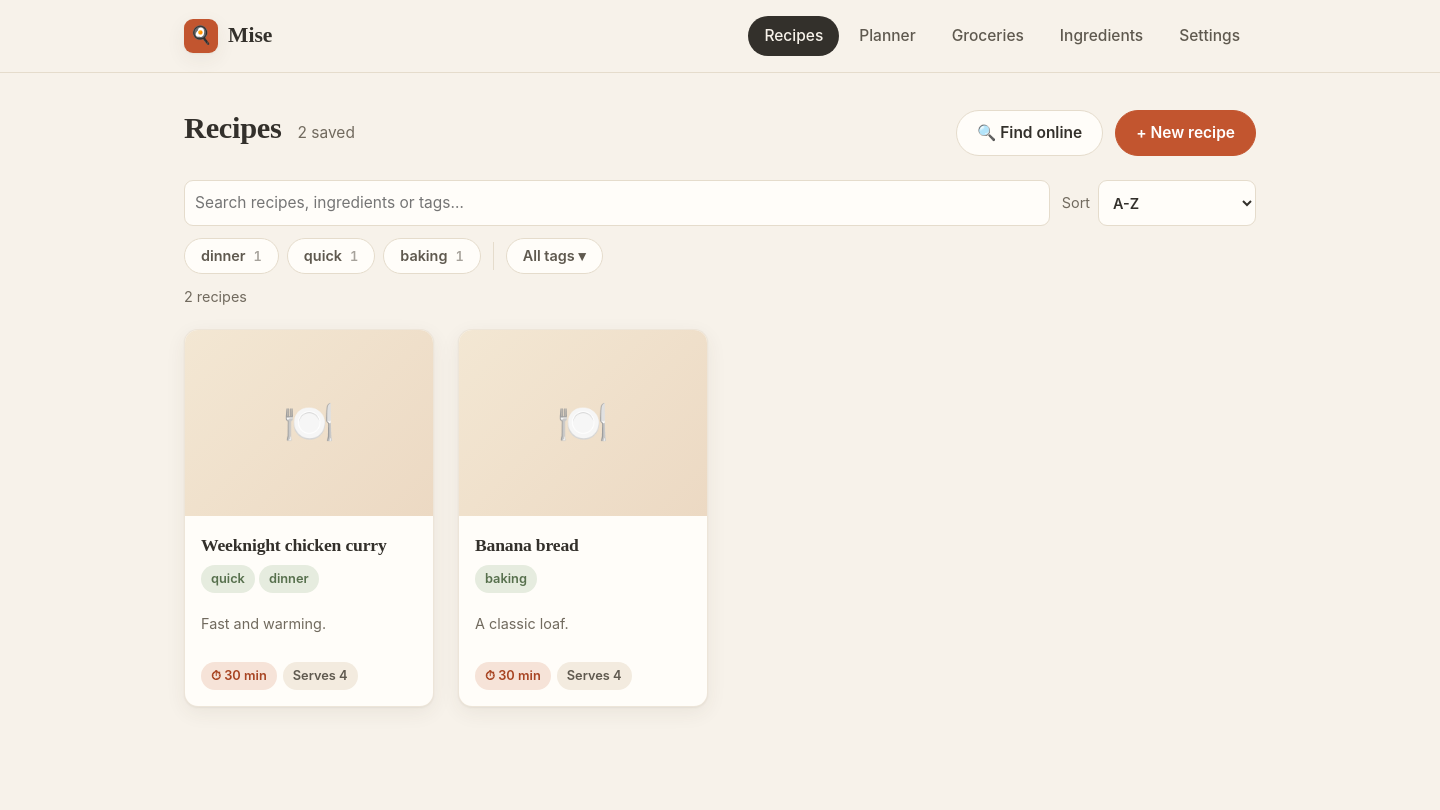
RecipesPage › filters by a tag picked from the quick row
Expected: the heading "Banana bread" is shown, [475,535,579,555]
Click the button "dinner 1" at [231, 256], box [184,238,279,274]
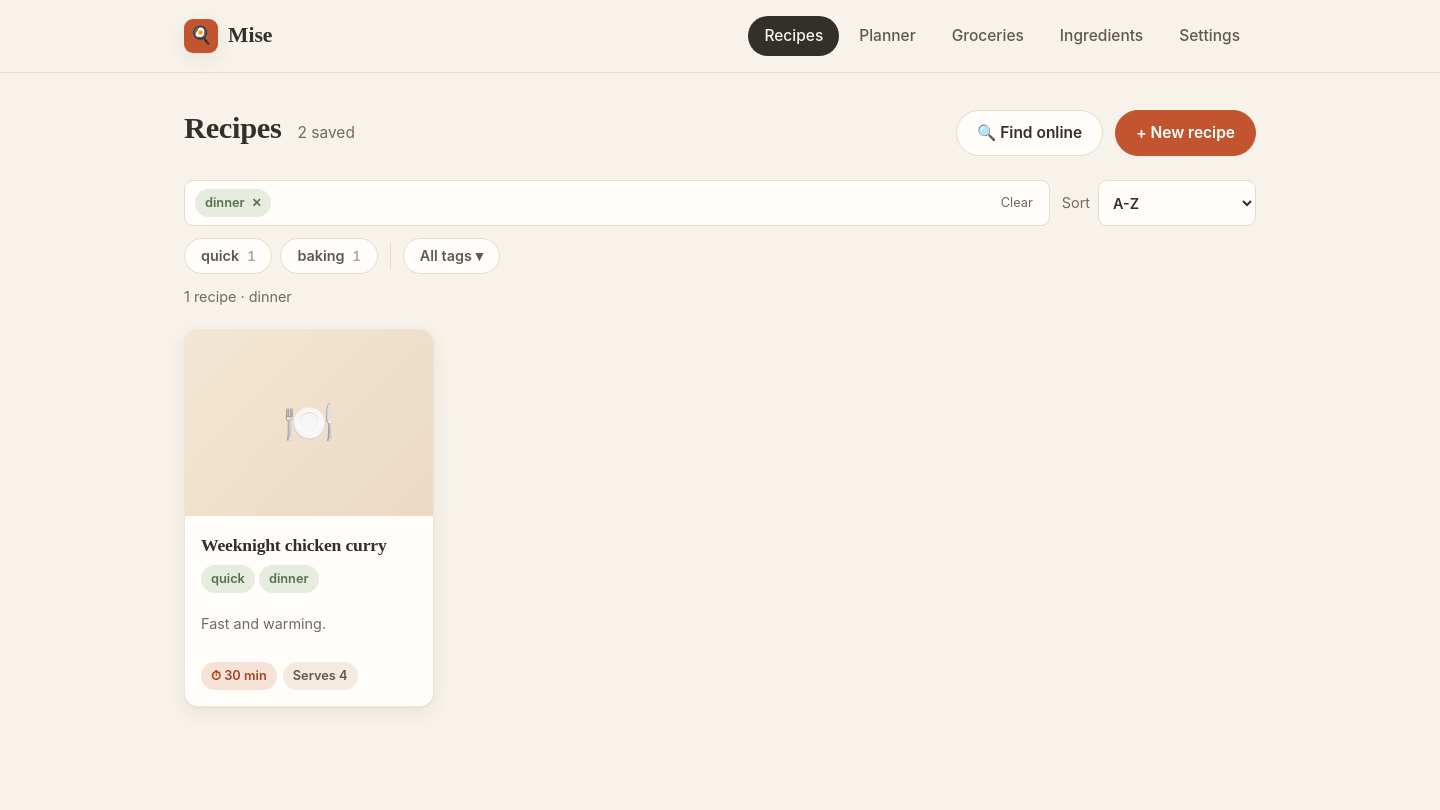
Expected: the button named "Remove dinner" is shown, [247,193,267,213]
Expected: the text with class "recipes-result" reads "1 recipe · dinner", [184,288,292,305]
